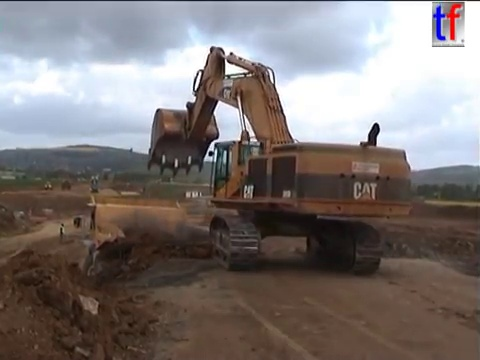excavator: (144, 42, 414, 277)
truck: (72, 193, 229, 290), (148, 196, 244, 254), (59, 179, 71, 191), (43, 179, 52, 191)
worker: (57, 220, 66, 244)
